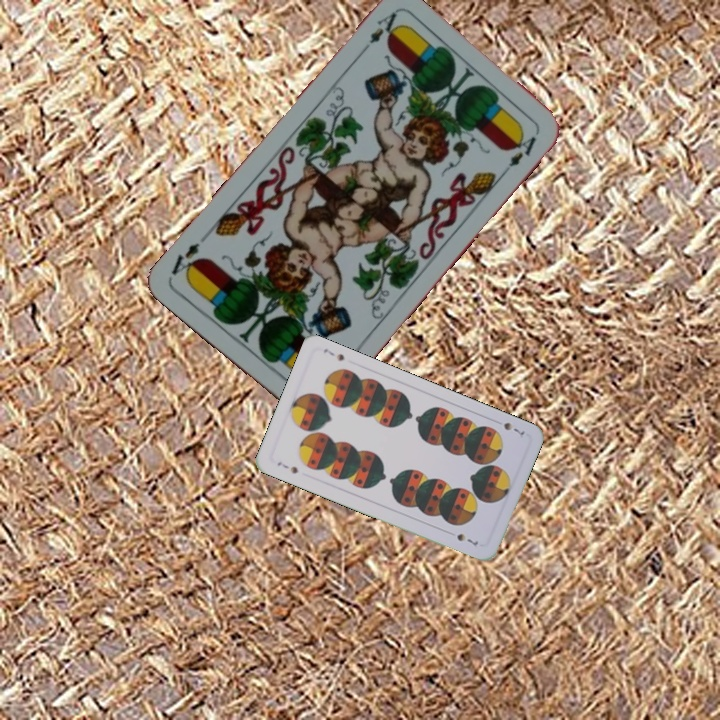EA: (356, 8, 401, 58)
S7: (500, 418, 527, 438), (273, 458, 300, 476)
